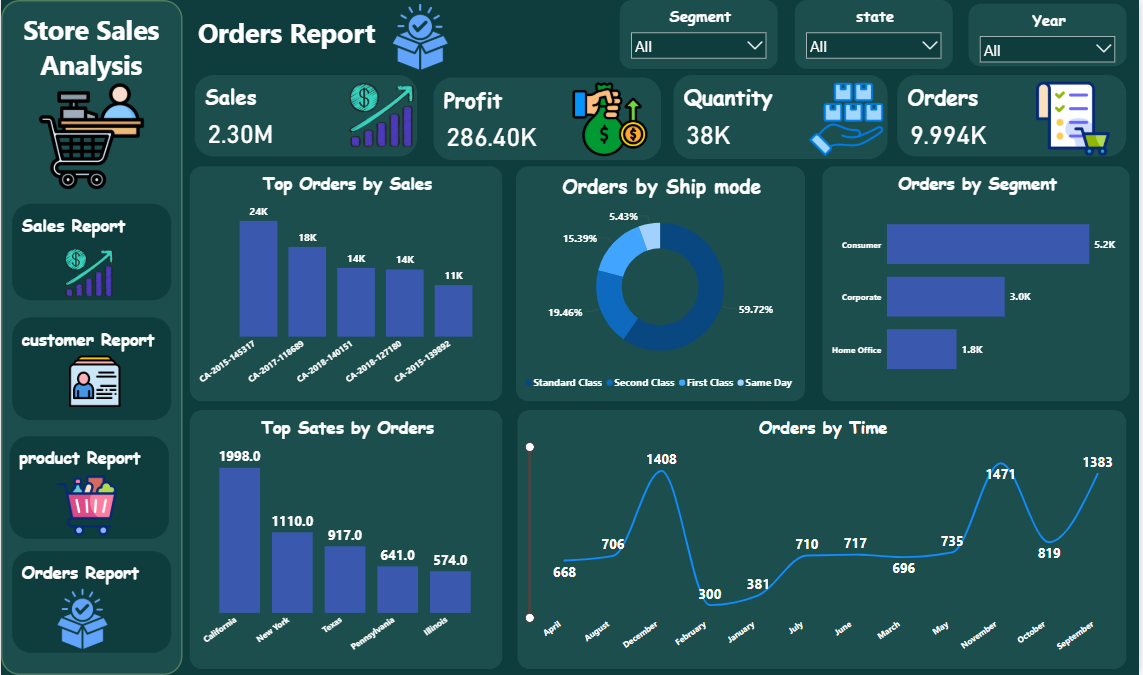

The dashboard page shown, as its layout file describes it:
{"tool":"powerbi","page":{"name":"orders","canvas":[1820,1080],"ordinal":4},"visuals":[{"type":"cardVisual","title":"Orders","fields":{"Data":["CountNonNull(sales.Order ID)"]},"box":[1434,120,366,130],"z":0},{"type":"cardVisual","title":"Sales","fields":{"Data":["Sum(sales.Sales)"]},"box":[310,120,356,130],"z":1000},{"type":"columnChart","title":"Top Orders by Sales","fields":{"Y":["Sum(sales.Sales)"],"Category":["sales.Order ID"]},"box":[302,266,500,376],"z":2000},{"type":"donutChart","title":" Orders by Ship mode","fields":{"Category":["shiping.Ship Mode"],"Y":["CountNonNull(sales.Order ID)"]},"box":[824,266,462,376],"z":3000},{"type":"barChart","title":" Orders by Segment","fields":{"Category":["customer.Segment"],"Y":["CountNonNull(sales.Order ID)"]},"box":[1314,266,492,376],"z":4000},{"type":"columnChart","title":"Top Sates by Orders","fields":{"Category":["customer.State"],"Y":["CountNonNull(sales.Order ID)"]},"box":[302,656,500,414],"z":5000},{"type":"textbox","box":[0,0,290,1080],"z":6000},{"type":"textbox","box":[310,0,1490,124],"z":7000},{"type":"image","box":[552,120,114,128],"z":8000},{"type":"image","box":[0,126,290,184],"z":9000},{"type":"slicer","title":"Year","fields":{"Values":["date.Year","date.Quarter"]},"box":[1547.5,5,252.5,100],"z":10000},{"type":"slicer","title":"state","fields":{"Values":["customer.State"]},"box":[1270,0,252.5,110],"z":11000},{"type":"slicer","title":"Segment","fields":{"Values":["customer.Segment"]},"box":[990,0,252.5,110],"z":12000},{"type":"group","id":"g1","title":"Group 1","box":[18,882,254,162],"z":13000},{"type":"group","id":"g2","title":"Group 2","box":[14,698,254,164],"z":14000},{"type":"group","id":"g3","title":"Group 3","box":[18,508,254,164],"z":15000},{"type":"group","id":"g4","title":"Group 4","box":[0,326,282,154],"z":16000},{"type":"lineChart","title":"Orders by Time","fields":{"Category":["date.Year","date.Month Name"],"Y":["CountNonNull(sales.Order ID)"]},"box":[826,656,974,414],"z":17000},{"type":"cardVisual","title":"Quantity","fields":{"Data":["Sum(sales.Quantity)"]},"box":[1076,120,342,134],"z":18000},{"type":"cardVisual","title":"Profit","fields":{"Data":["Sum(sales.Profit)"]},"box":[692,124,364,132],"z":19000},{"type":"textbox","box":[18,326,254,154],"z":19000,"group":"g4"},{"type":"image","box":[892,126,164,130],"z":20000},{"type":"textbox","box":[18,508,254,164],"z":20000,"group":"g3"},{"type":"image","box":[1286,126,132,130],"z":21000},{"type":"textbox","box":[14,698,254,164],"z":21000,"group":"g2"},{"type":"image","box":[1624,126,182,128],"z":22000},{"type":"textbox","box":[18,882,254,162],"z":22000,"group":"g1"},{"type":"image","box":[516,0,310,118],"z":23000},{"type":"image","box":[0,392,282,88],"z":26000,"group":"g4"},{"type":"image","box":[32,564,236,92],"z":27000,"group":"g3"},{"type":"image","box":[18,936,224,108],"z":27001,"group":"g1"},{"type":"image","box":[32,756,210,106],"z":27003,"group":"g2"}]}

Visuals, with their boxes in screenshot pixels (x1, y1, x2, y2), scaled from the page's 1820x1080 canvas onto the 1143x675 screenshot:
"Orders" cardVisual: 901,75,1130,156
"Sales" cardVisual: 195,75,418,156
"Top Orders by Sales" columnChart: 190,166,504,401
" Orders by Ship mode" donutChart: 517,166,808,401
" Orders by Segment" barChart: 825,166,1134,401
"Top Sates by Orders" columnChart: 190,410,504,669
textbox: 0,0,182,674
textbox: 195,0,1130,78
image: 347,75,418,155
image: 0,79,182,194
"Year" slicer: 972,3,1130,66
"state" slicer: 798,0,956,69
"Segment" slicer: 622,0,780,69
"Group 1" group: 11,551,171,652
"Group 2" group: 9,436,168,539
"Group 3" group: 11,318,171,420
"Group 4" group: 0,204,177,300
"Orders by Time" lineChart: 519,410,1130,669
"Quantity" cardVisual: 676,75,891,159
"Profit" cardVisual: 435,78,663,160
textbox: 11,204,171,300
image: 560,79,663,160
textbox: 11,318,171,420
image: 808,79,891,160
textbox: 9,436,168,539
image: 1020,79,1134,159
textbox: 11,551,171,652
image: 324,0,519,74
image: 0,245,177,300
image: 20,352,168,410
image: 11,585,152,652
image: 20,472,152,539
